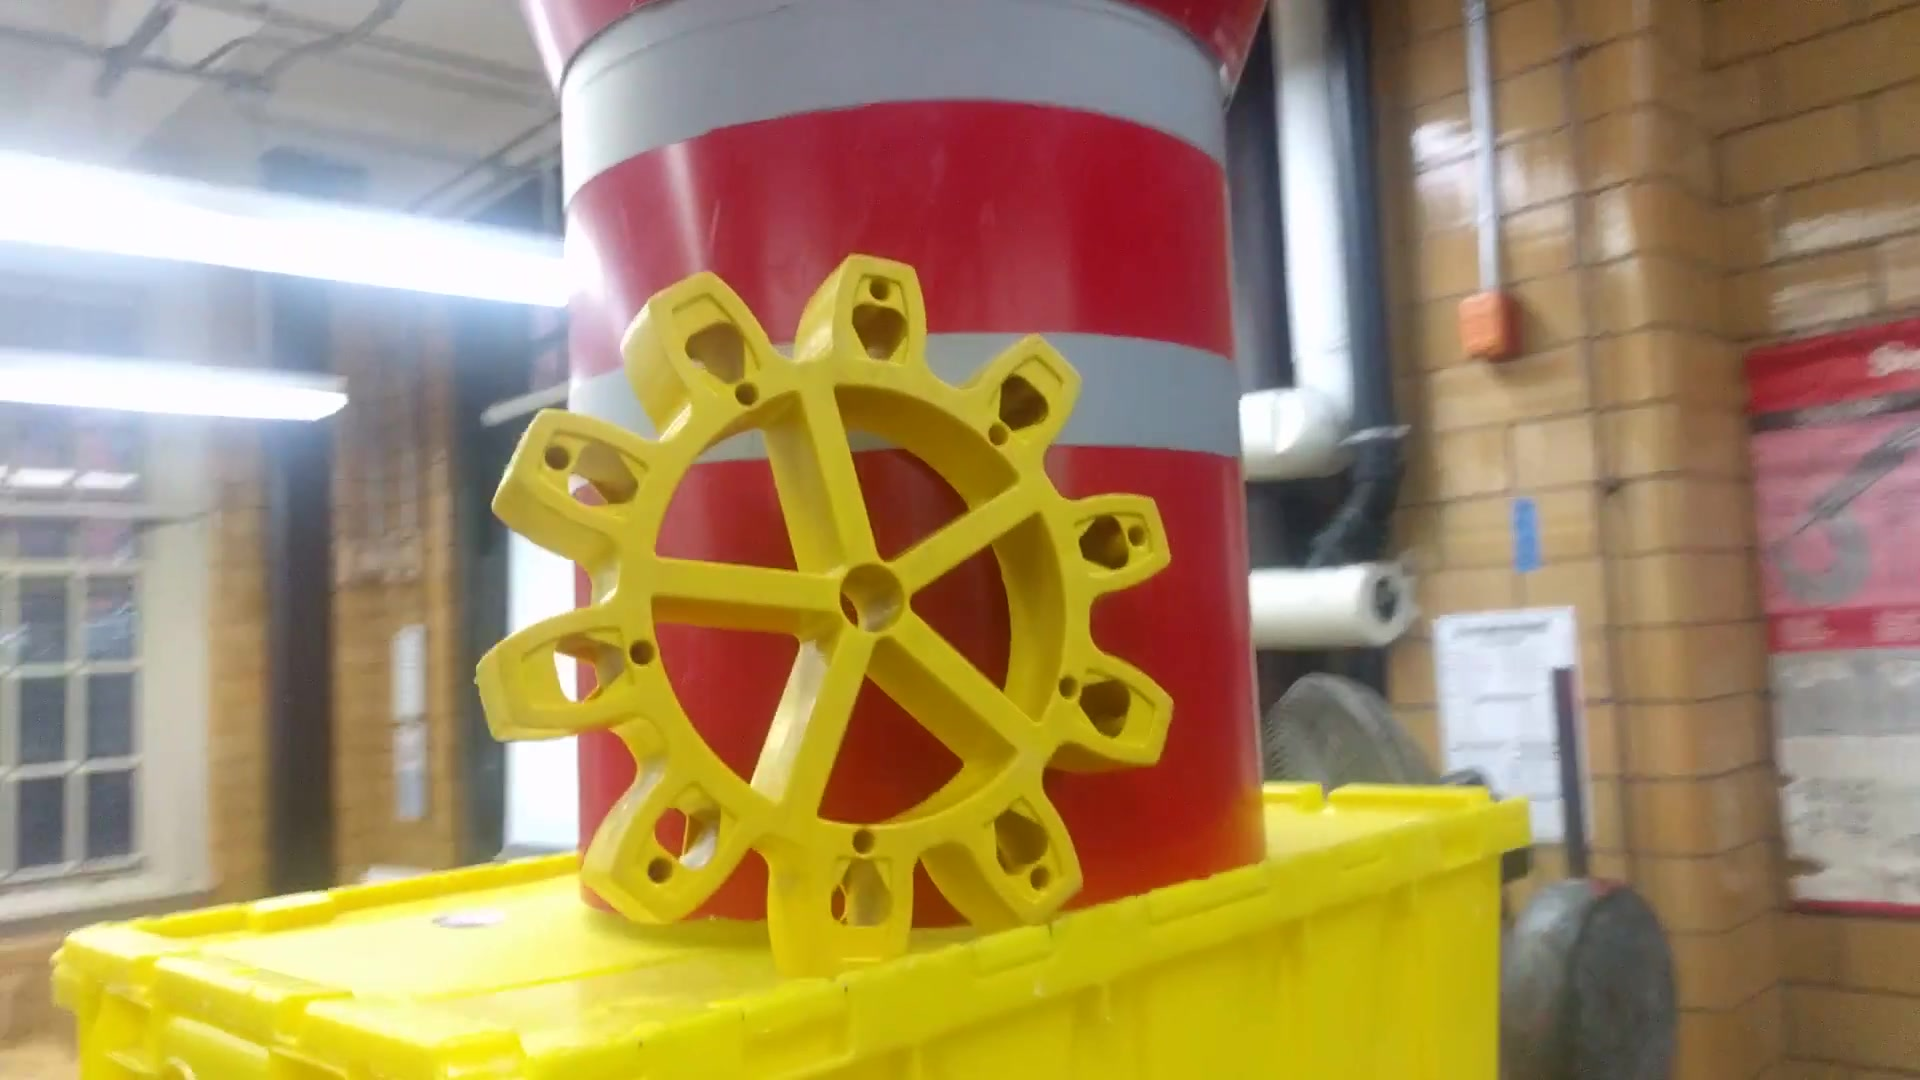gear: (468, 252, 1172, 965)
